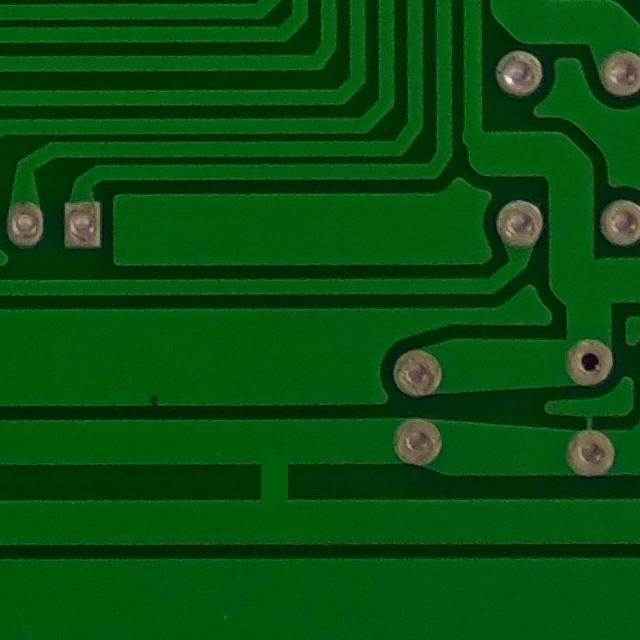short: (210, 439, 327, 527)
